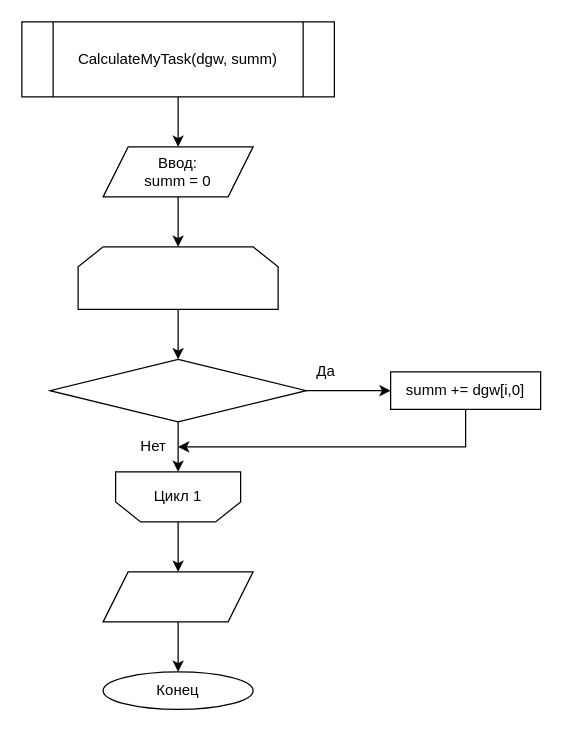
The diagram is 563 pixels wide and 731 high, and some of its shapes have lost their labels. Here are the shapes that lost their labels. From the top down, the centre of each, then its label:
point (177, 277): Цикл 1 i = 0(dgw.ColumnCount)1
point (177, 390): dgw[i,0] > 5
point (177, 596): Вывод summ
